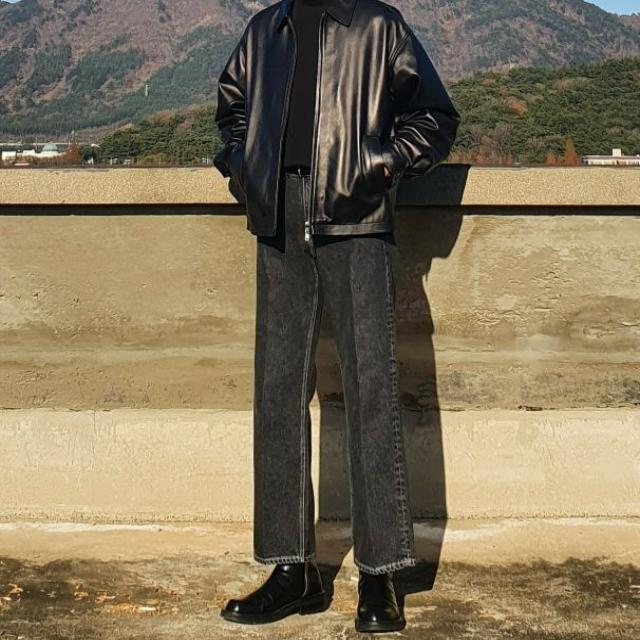jacket: (255, 172, 416, 574), (210, 1, 462, 238)
